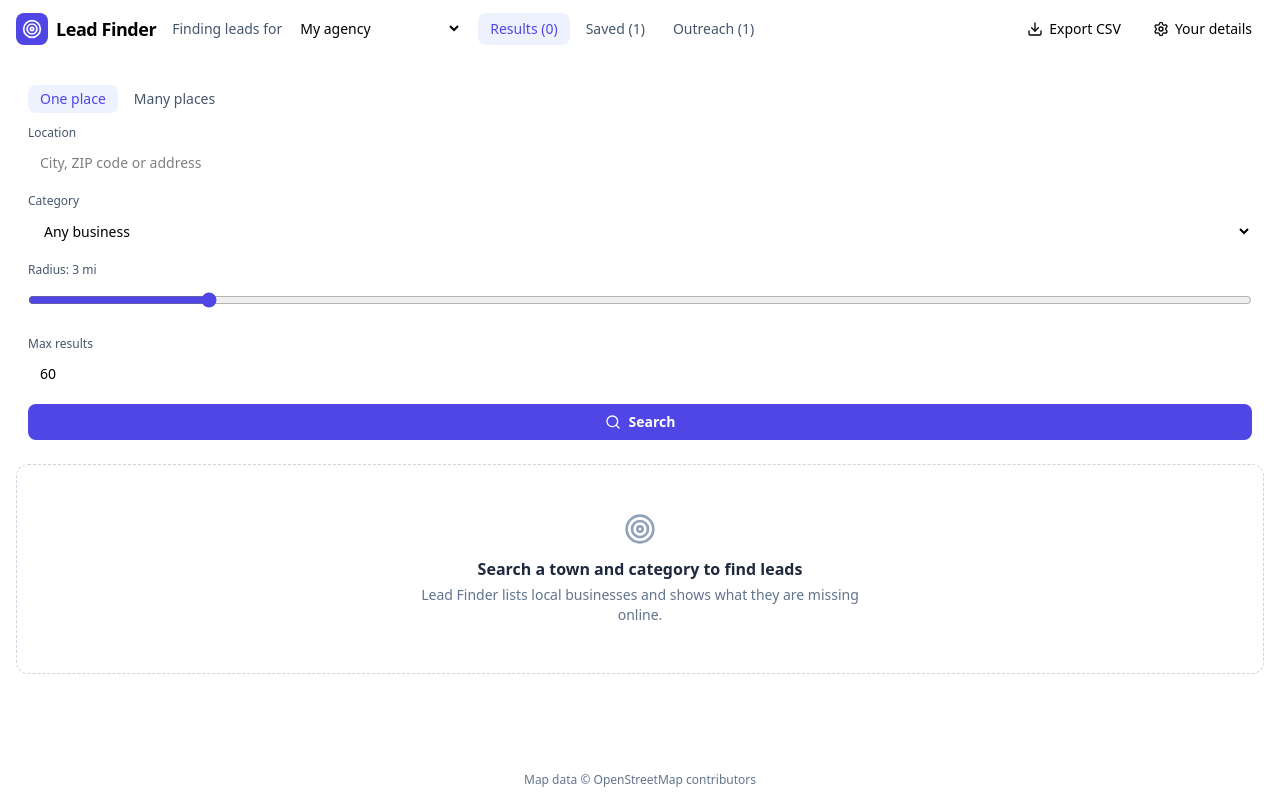
Test case: run while the app is closed › explains what to set up when the server has no database
This screenshot has width=1280, height=800.
Click the button "Outreach (1)" at (714, 28), box [661,12,766,44]
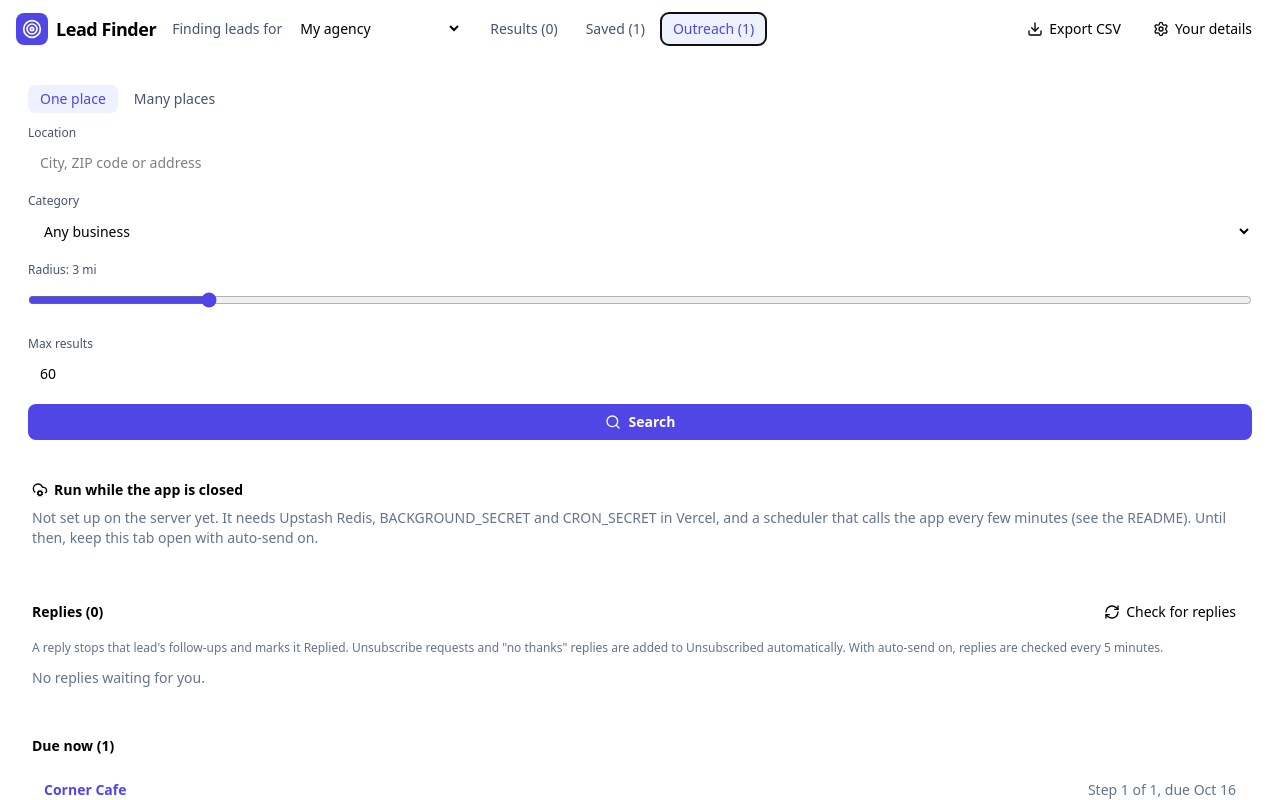
Now the text "Not set up on the server yet" is shown, box [32,508,1226,547]
